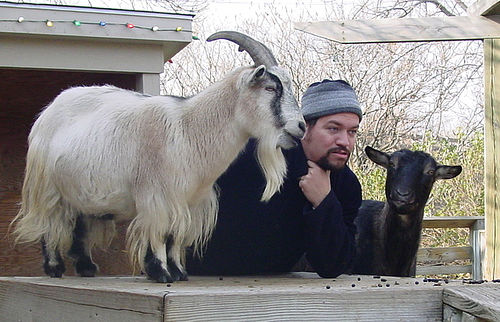goat: (2, 30, 308, 283), (347, 145, 463, 273)
